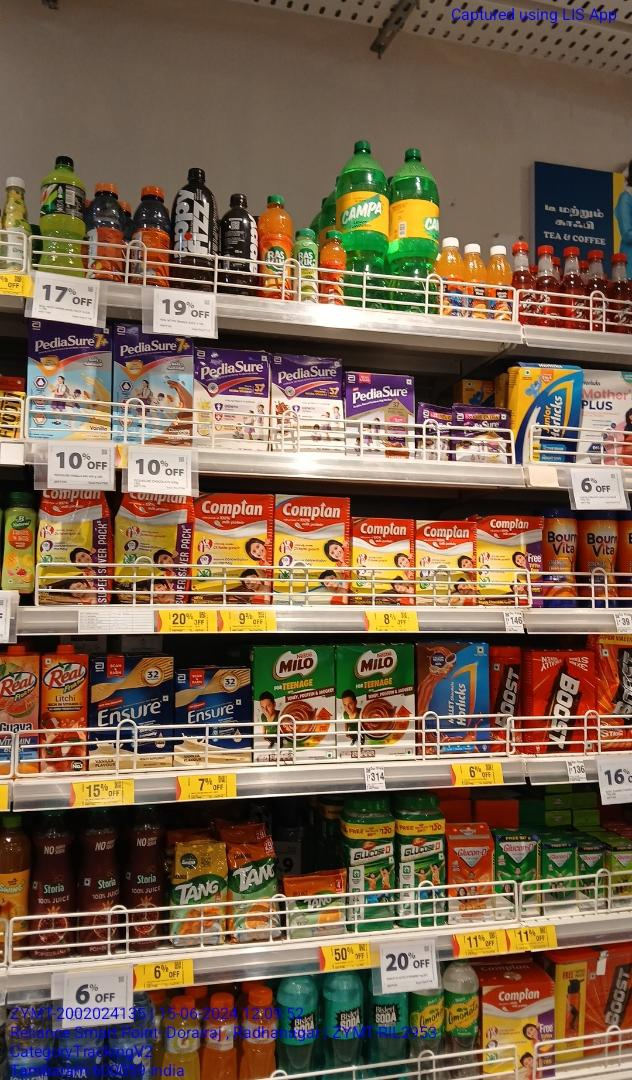BOURN_VITA_200_G_JAR: (579, 511, 618, 609), (545, 508, 578, 610)
COMPLAN_CHOCOLATE_200_GMS_PACK: (478, 516, 542, 608), (350, 517, 414, 604)
COMPLAN_CHOCOLATE_500_GMS_PACK: (193, 495, 271, 603), (482, 985, 555, 1080)
COMPLAN_CREAMY_CLASSIC_500_G_PACK: (275, 492, 349, 605)
COMPLAN_KESAR_BADAM_200_GMS_PACK: (417, 520, 475, 604)
COMPLAN_RC_POUCH_700_GMS_12: (37, 489, 112, 606), (115, 493, 190, 603)
ENSURE_VANILLA_400_G_PACK: (89, 657, 171, 768)
PEDIASURE_7_PLUS_CHOCOLATE_400_G_PACK: (113, 329, 191, 445)
